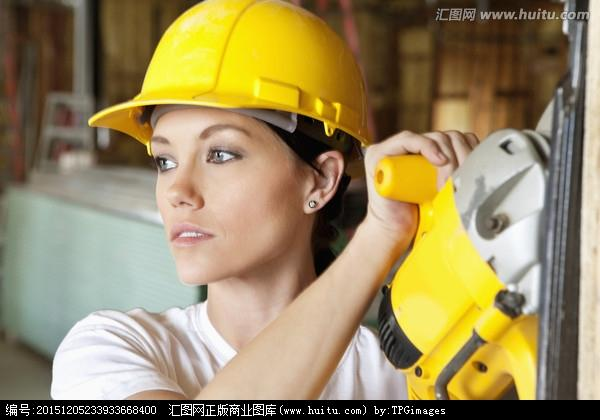helmet: (88, 1, 388, 144)
